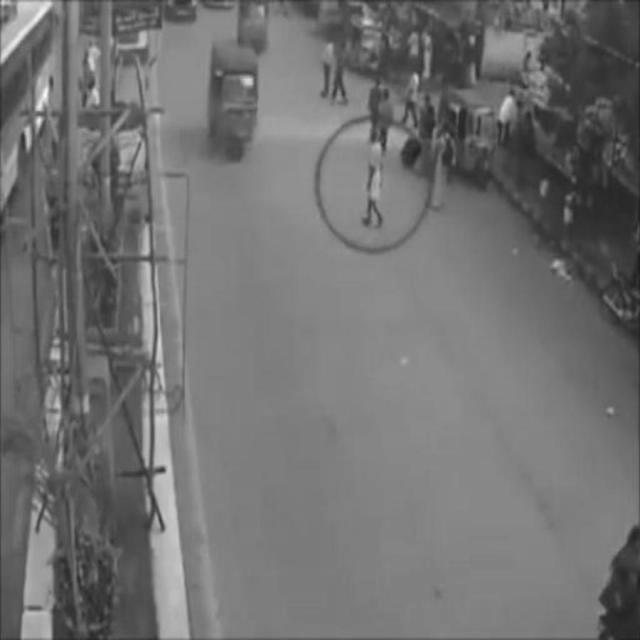person: (365, 127, 387, 233), (321, 32, 337, 100)
vehicle: (209, 42, 260, 162), (447, 90, 494, 194)
